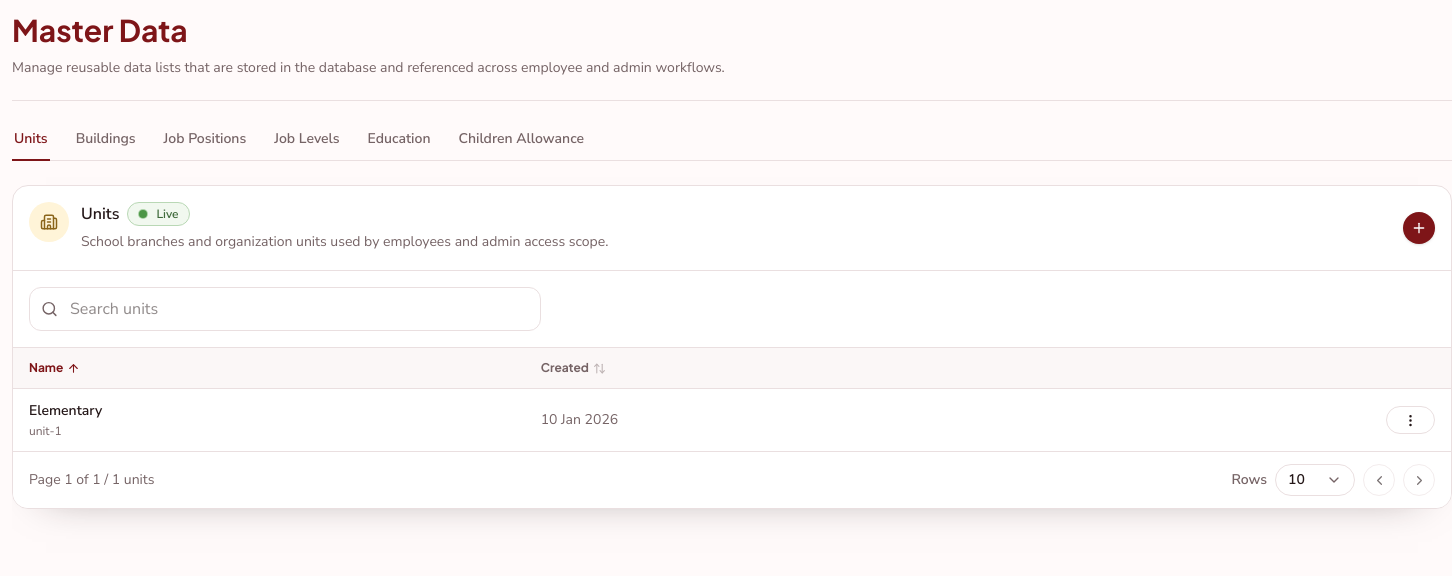
Scenario: MasterData › Employment tab › opens Units first and moves between the sub tabs
Expected: the text "Elementary" is shown, [29,401,102,420]
Click the tab "Job Positions". click: (205, 143)
box: [162,125,248,161]
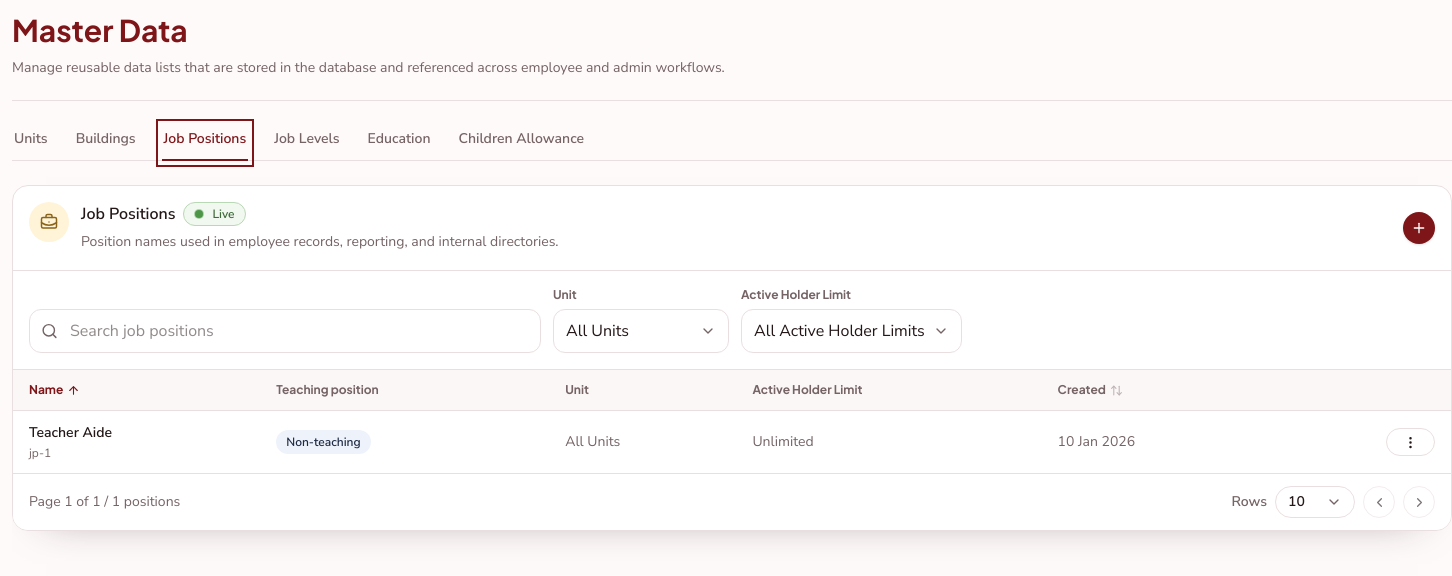
Expected: the text "Teacher Aide" is shown, [29,423,112,442]
Click the tab "Job Levels". click: (307, 143)
box: [272,125,342,161]
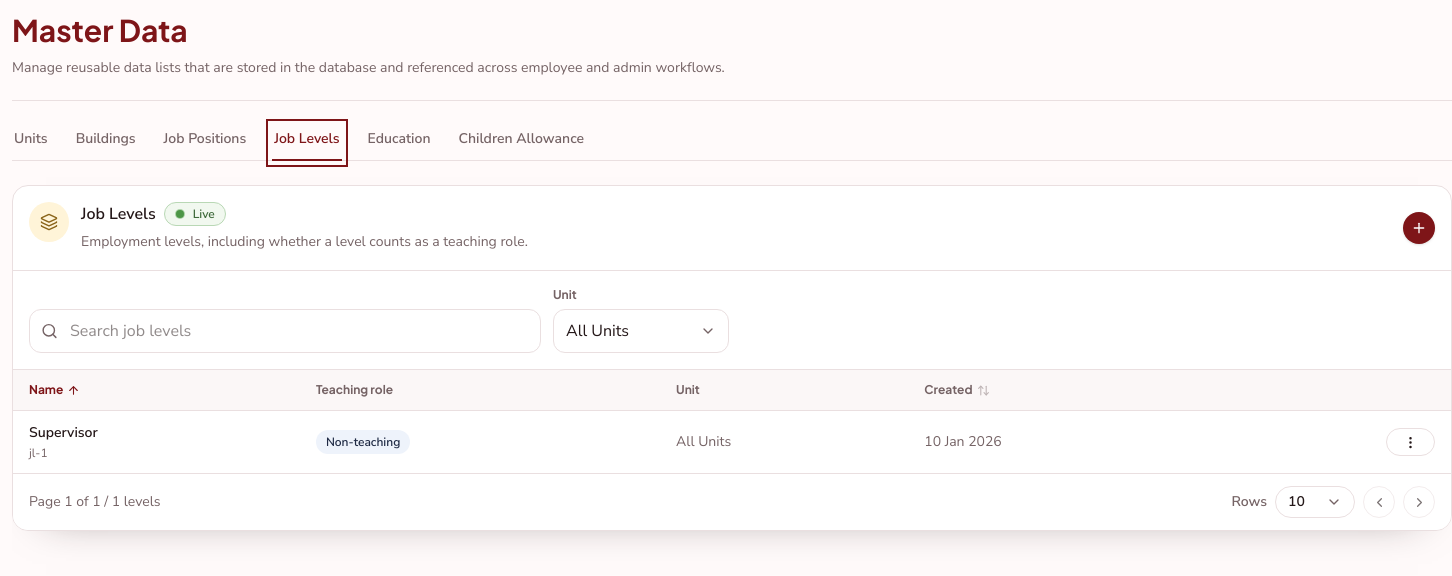
Expected: the text "Supervisor" is shown, [29,423,98,442]
Click the tab "Children Allowance". click: (521, 143)
box: [456,125,586,161]
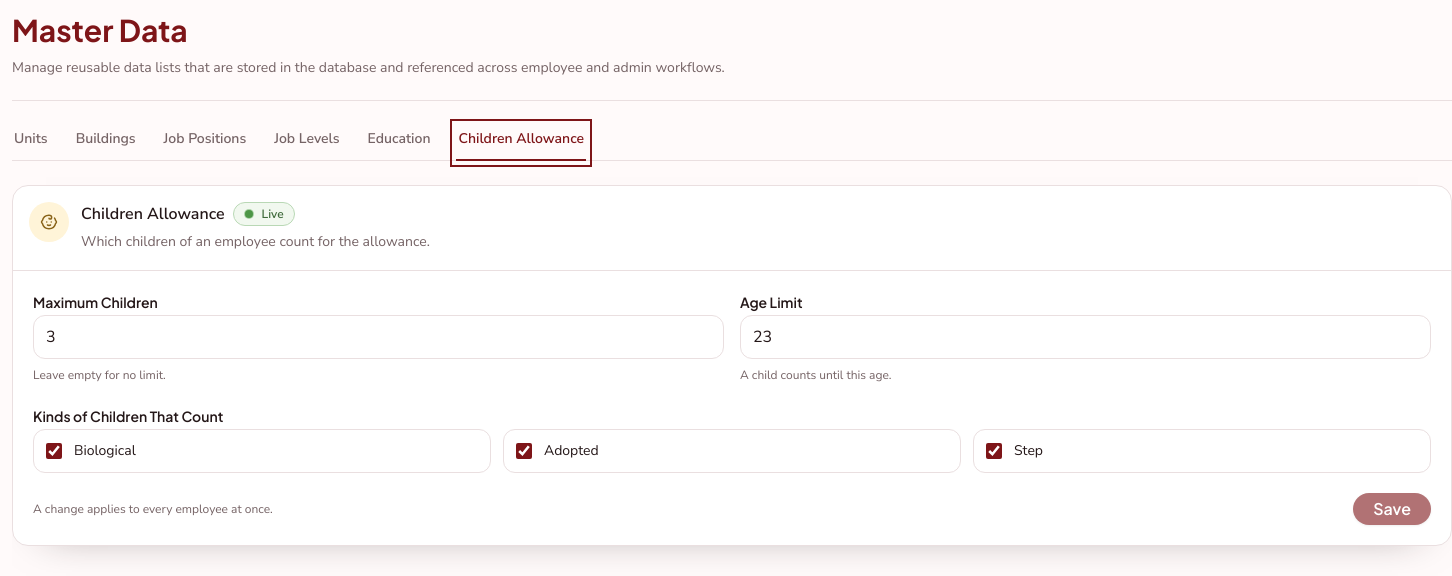
Expected: the button "Save" is disabled, [1353,493,1431,525]
